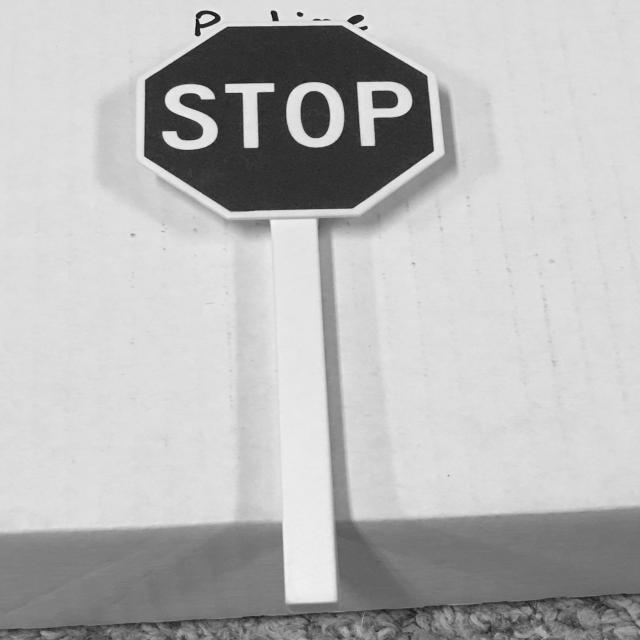Stop-sign: (118, 1, 468, 253)
